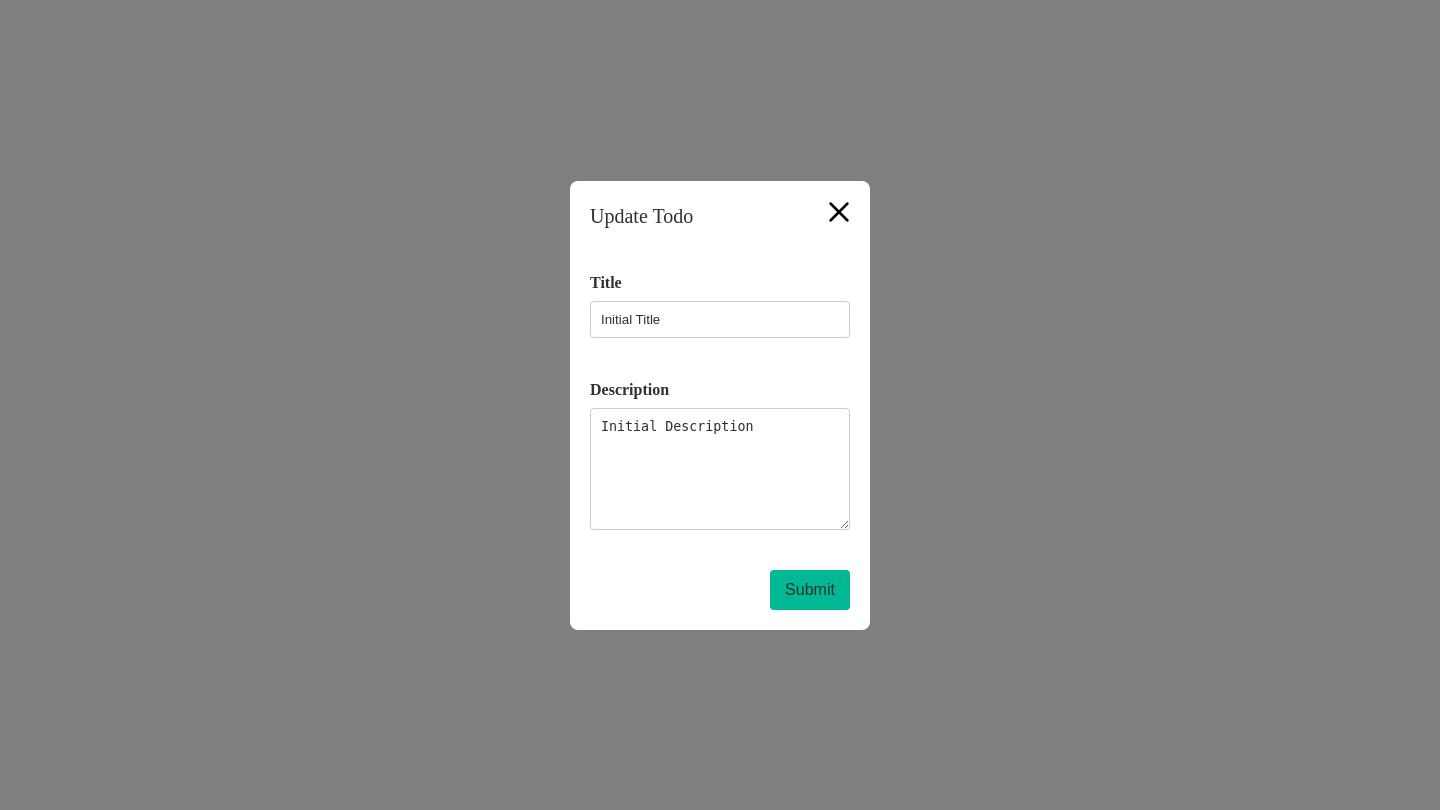
it: TodoFormDialog 컴포넌트 › 변경 사항이 있을 때 닫기 버튼 클릭 시 AlertDialog가 표시되어야 합니다
The image size is (1440, 810).
Replace the text in the field with placeholder "Enter todo title" with "Updated Title" at (720, 319), box [590, 300, 850, 338]
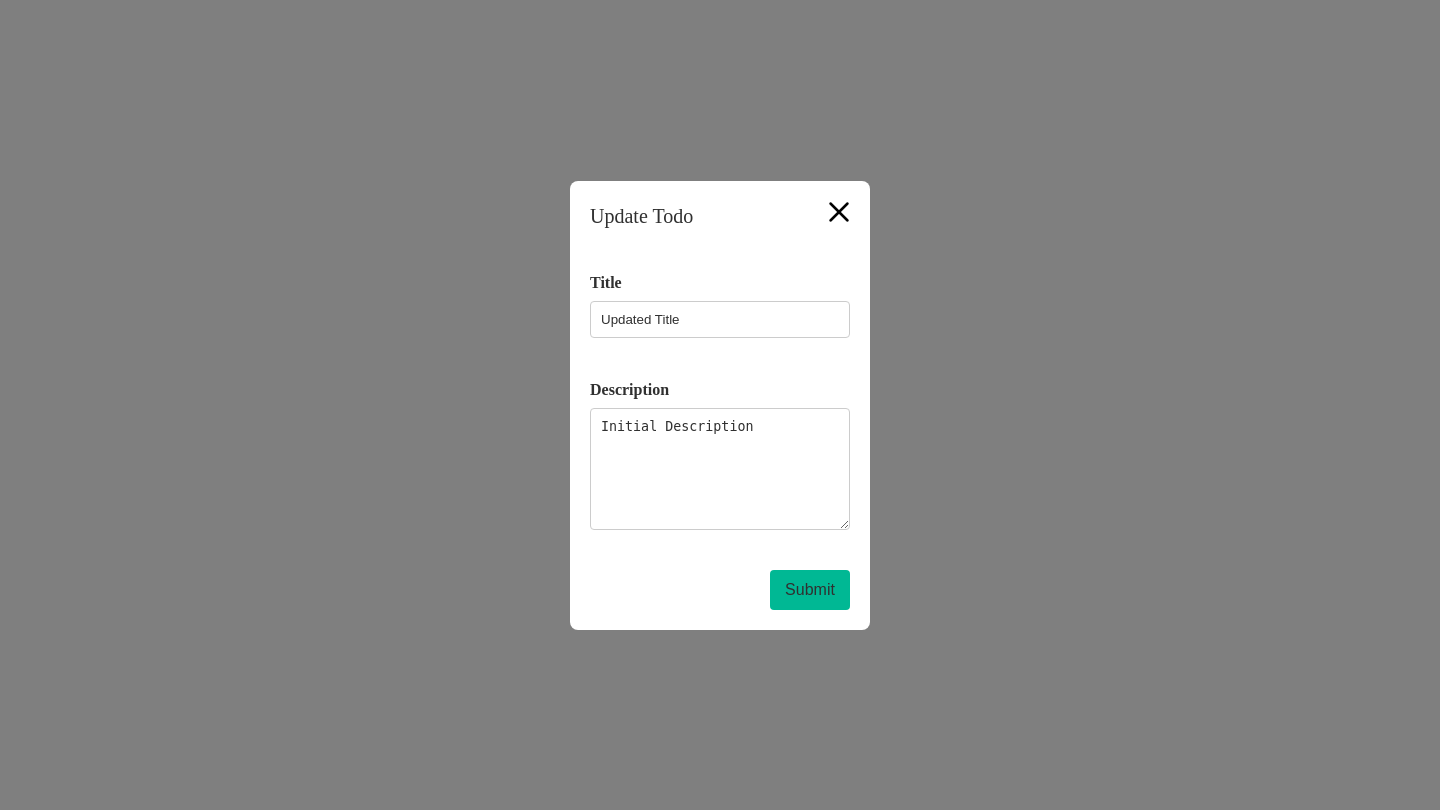
Click the button named "close".
click(839, 212)  # box [813, 186, 865, 238]
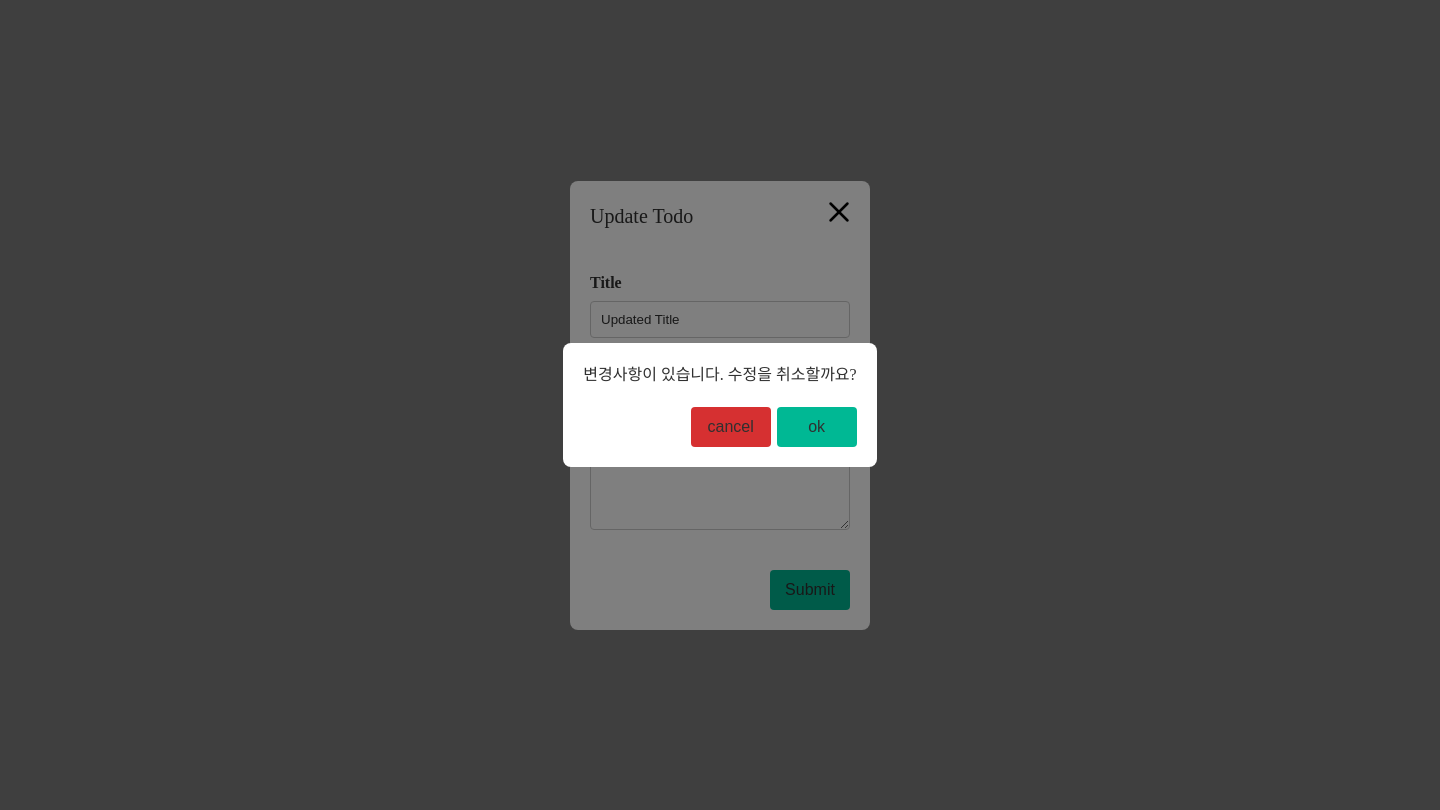
expect the text "변경사항이 있습니다. 수정을 취소할까요?" is shown: met, box [583, 363, 857, 387]
